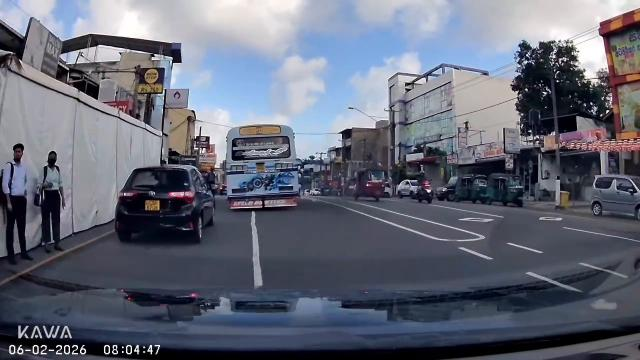number plate: (143, 196, 166, 217)
